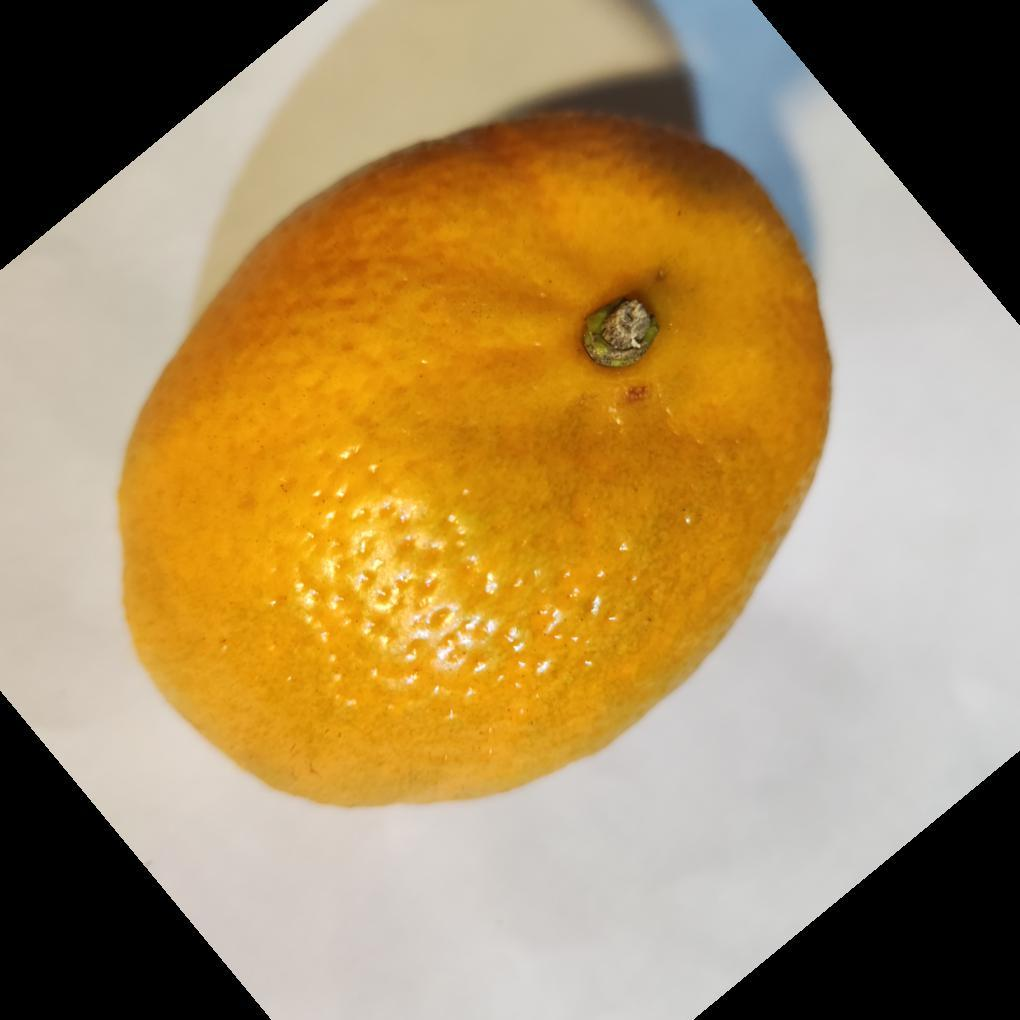FreshGuava: (111, 108, 835, 816)
